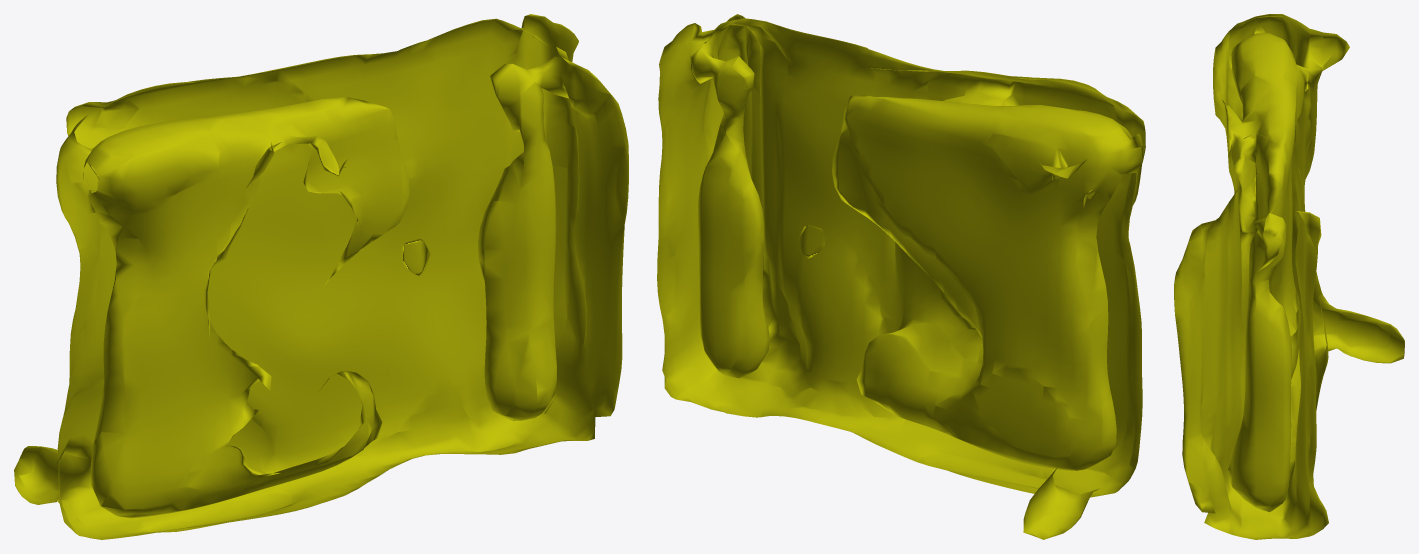
The picture shows the model from 3 angles, left to right: view 1: azimuth 30°, elevation 25°; view 2: azimuth 150°, elevation 25°; view 3: azimuth 270°, elevation 25°; orthographic projection. The views are drawn at different scales.
Parts seen in each view (by area): view 1: world; view 2: world; view 3: world.
Part boxes in pixels (box(x1,y1,x2,y2)): world: box(14, 14, 628, 539); world: box(657, 14, 1145, 539); world: box(1174, 14, 1404, 539).
Bounding box in the file's own units: 36.88 × 29.8 × 17.16.
